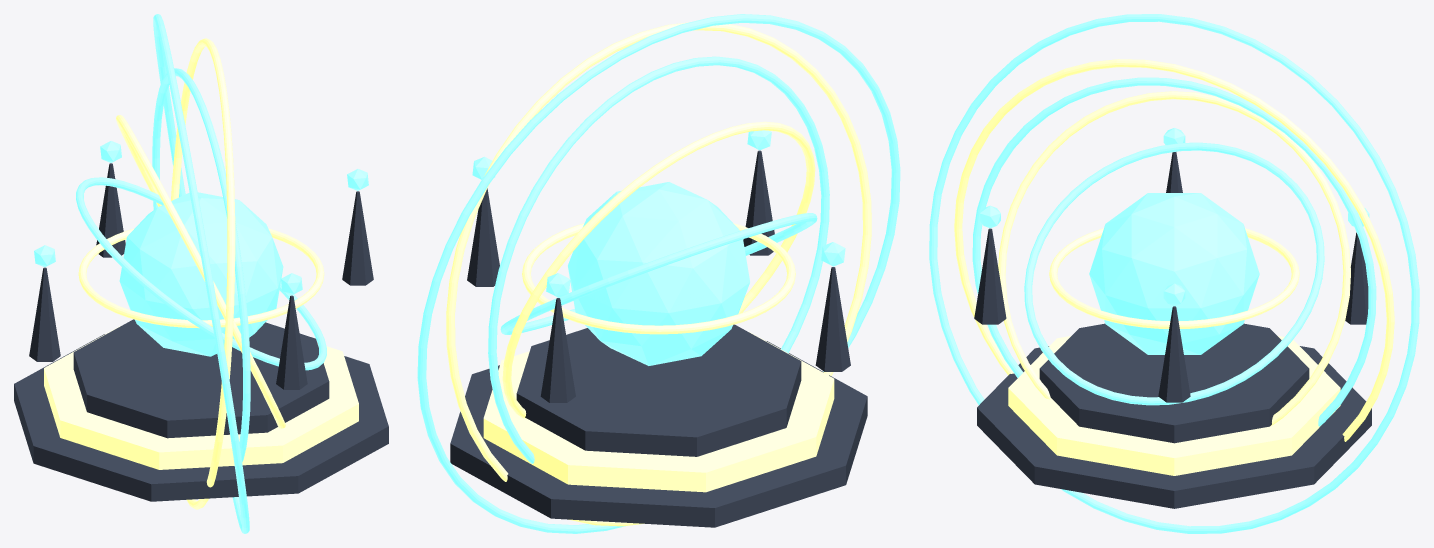
Rendered from gpu-blender-v31.glb.
The picture shows the model from 3 angles, left to right: view 1: azimuth 30°, elevation 25°; view 2: azimuth 150°, elevation 25°; view 3: azimuth 270°, elevation 25°; orthographic projection. The views are drawn at different scales.
Parts seen in each view (by area): view 1: Cylinder.002, Cylinder, SovereignCore_subsweep-lead-scanner, Cylinder.001, Torus.005, Torus.004, Torus.003, Torus.001, Torus, Torus.002, Cone, Cone.003 (+2 smaller); view 2: Cylinder.002, SovereignCore_subsweep-lead-scanner, Cylinder, Cylinder.001, Torus.005, Torus.004, Torus.003, Torus.002, Torus, Torus.001, Cone.002, Cone.001 (+2 smaller); view 3: SovereignCore_subsweep-lead-scanner, Cylinder.002, Cylinder, Cylinder.001, Torus.005, Torus.004, Torus.001, Torus.002, Torus.003, Torus, Cone, Cone.003 (+1 smaller).
Part boxes in pixels (box(x1,y1,x2,y2)): Cylinder.002: box(73, 319, 329, 438); Cylinder: box(14, 334, 388, 501); SovereignCore_subsweep-lead-scanner: box(119, 192, 283, 356); Cylinder.001: box(44, 326, 358, 469); Torus.005: box(153, 14, 249, 533); Torus.004: box(171, 38, 235, 509); Torus.003: box(152, 68, 250, 461); Torus.001: box(76, 177, 326, 370); Torus: box(78, 228, 324, 328); Torus.002: box(116, 115, 285, 428); Cone: box(342, 191, 373, 285); Cone.003: box(276, 295, 307, 389); Cylinder.002: box(516, 324, 801, 456); SovereignCore_subsweep-lead-scanner: box(568, 182, 749, 365); Cylinder: box(450, 341, 867, 527); Cylinder.001: box(483, 332, 834, 492); Torus.005: box(417, 14, 900, 533); Torus.004: box(446, 22, 871, 526); Torus.003: box(488, 56, 829, 463); Torus.002: box(502, 121, 815, 418); Torus: box(522, 223, 795, 334); Torus.001: box(500, 213, 817, 334); Cone.002: box(815, 267, 850, 371); Cone.001: box(540, 298, 575, 402); SovereignCore_subsweep-lead-scanner: box(1089, 193, 1259, 354); Cylinder.002: box(1039, 323, 1309, 443); Cylinder: box(977, 346, 1371, 508); Cylinder.001: box(1008, 336, 1340, 475); Torus.005: box(929, 14, 1419, 533); Torus.004: box(954, 59, 1394, 441); Torus.001: box(1024, 142, 1324, 405); Torus.002: box(998, 91, 1350, 425); Torus.003: box(972, 77, 1376, 426); Torus: box(1049, 228, 1299, 328); Cone: box(1158, 306, 1190, 402); Cone.003: box(974, 228, 1006, 324).
Bounding box in the file's own units: 4.41 × 5.93 × 5.46.
